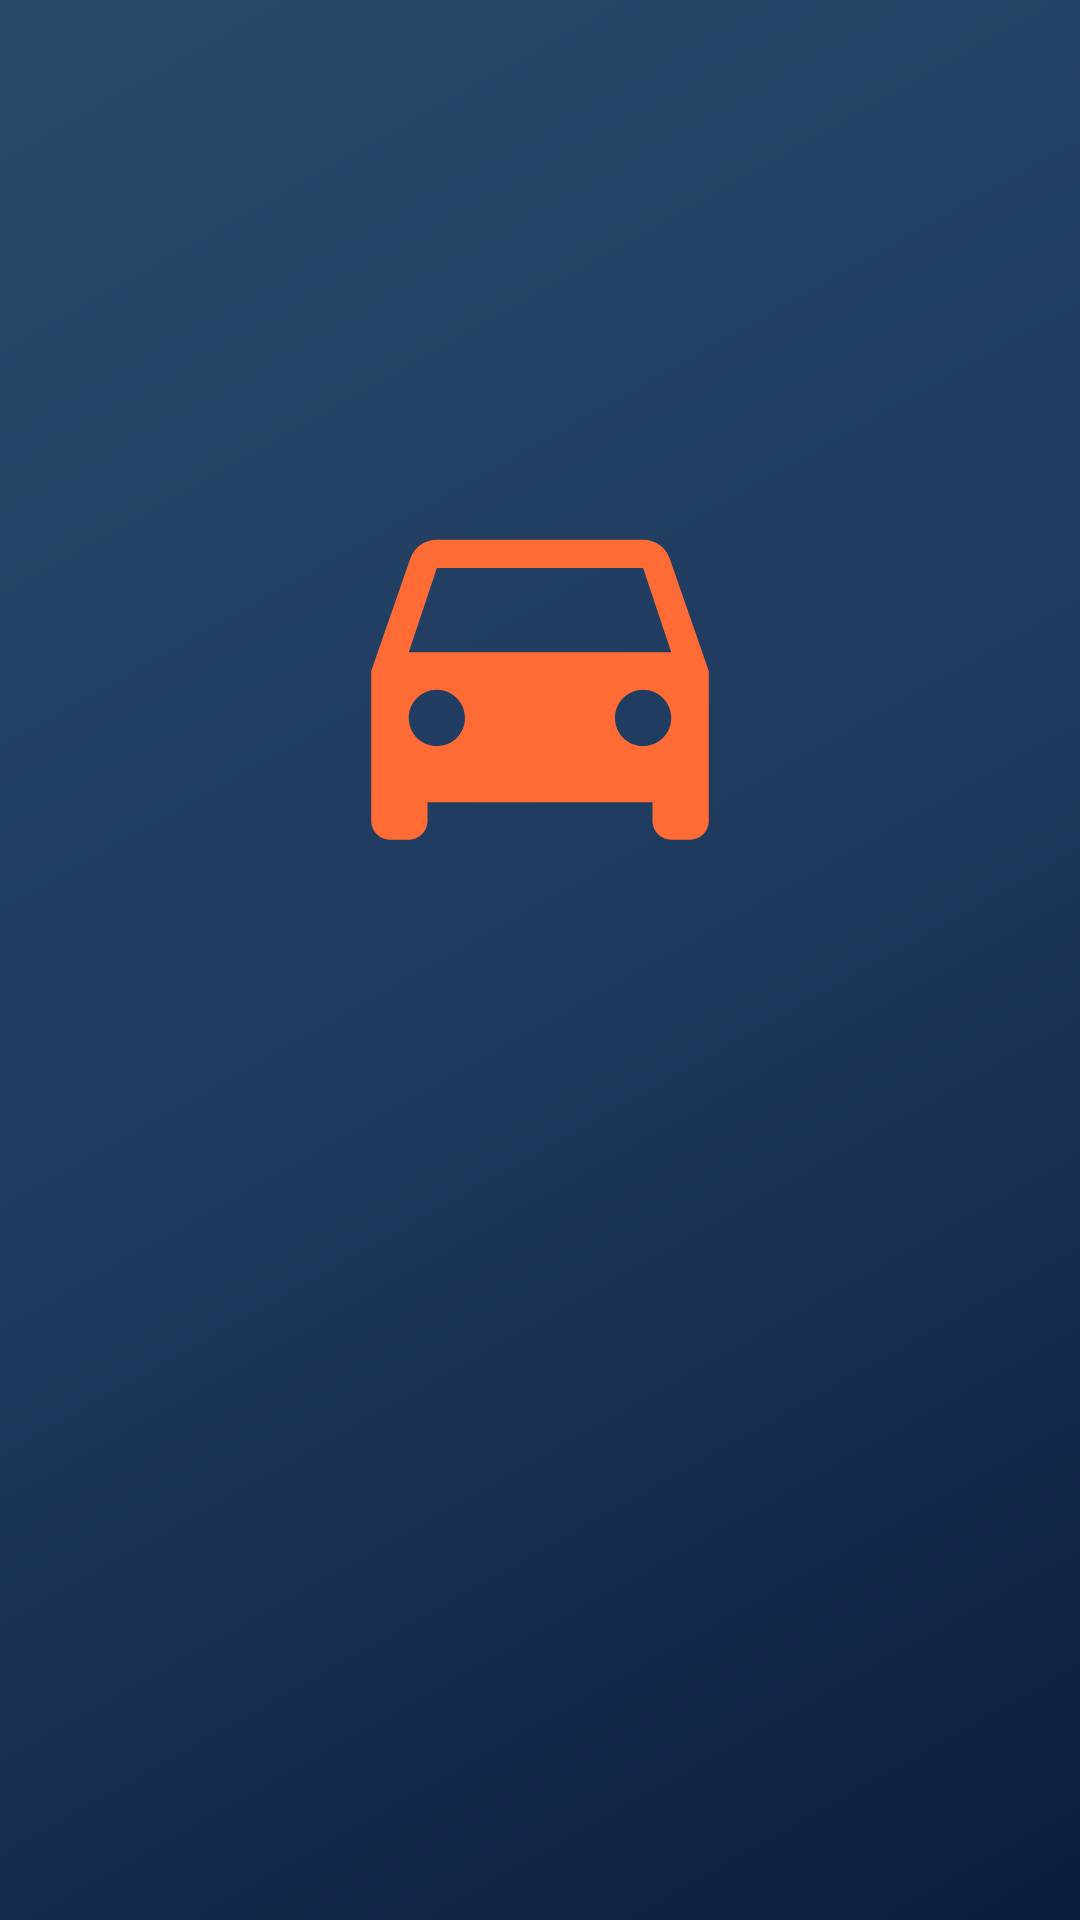

Screen size 1080x1920. Icon name, then its box in pixels as (x1, y1, x2, y2):
car sedan: (371, 539, 709, 840)
